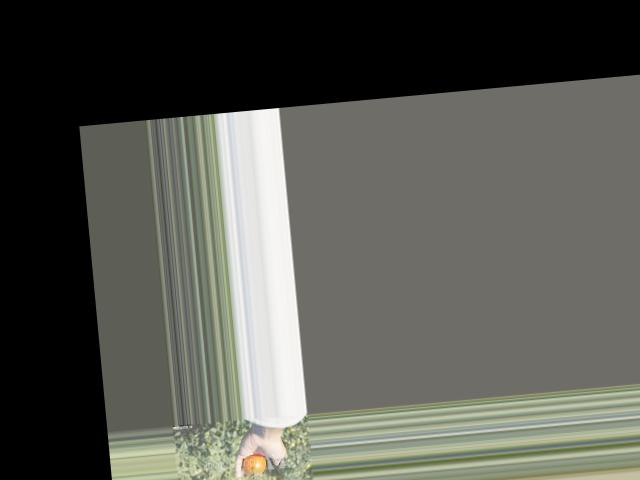tomato: (240, 453, 266, 477)
